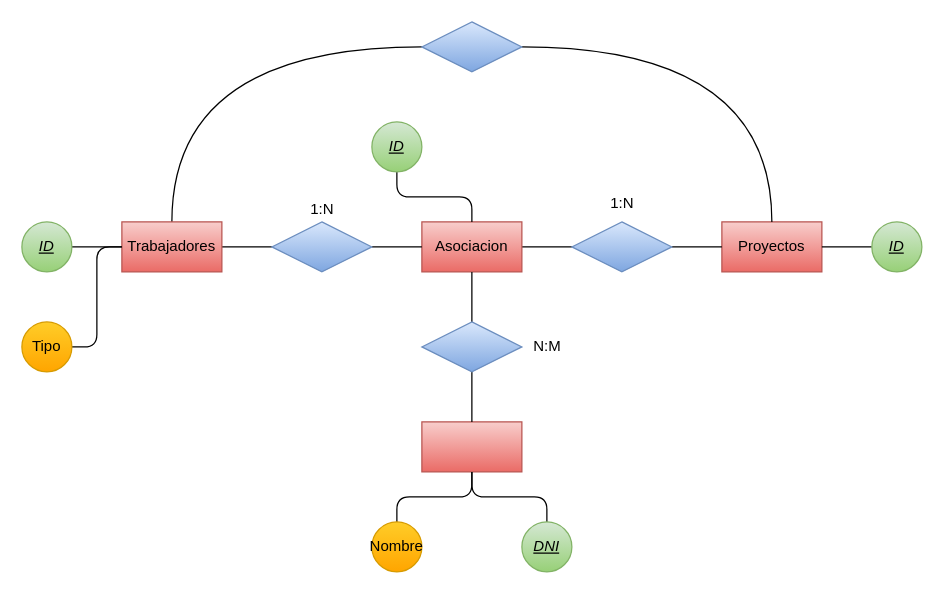
The diagram is 944 pixels wide and 594 high, and some of its shapes have lost their labels. The box of each missing label's shape, as (x1, y1, x2, y2) in pixels:
Formadas: (421, 321, 522, 372)
Participan: (421, 21, 522, 72)
Realiza: (571, 221, 672, 272)
Socio: (421, 421, 522, 472)
Trabajan: (271, 221, 372, 272)
